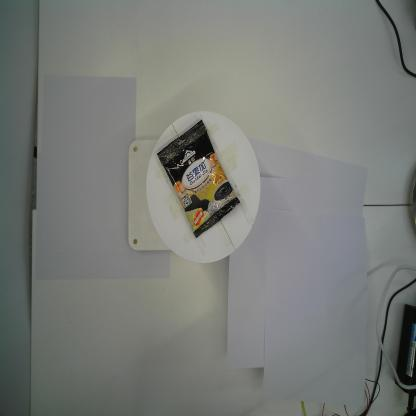Instant Drink: (157, 119, 241, 239)
